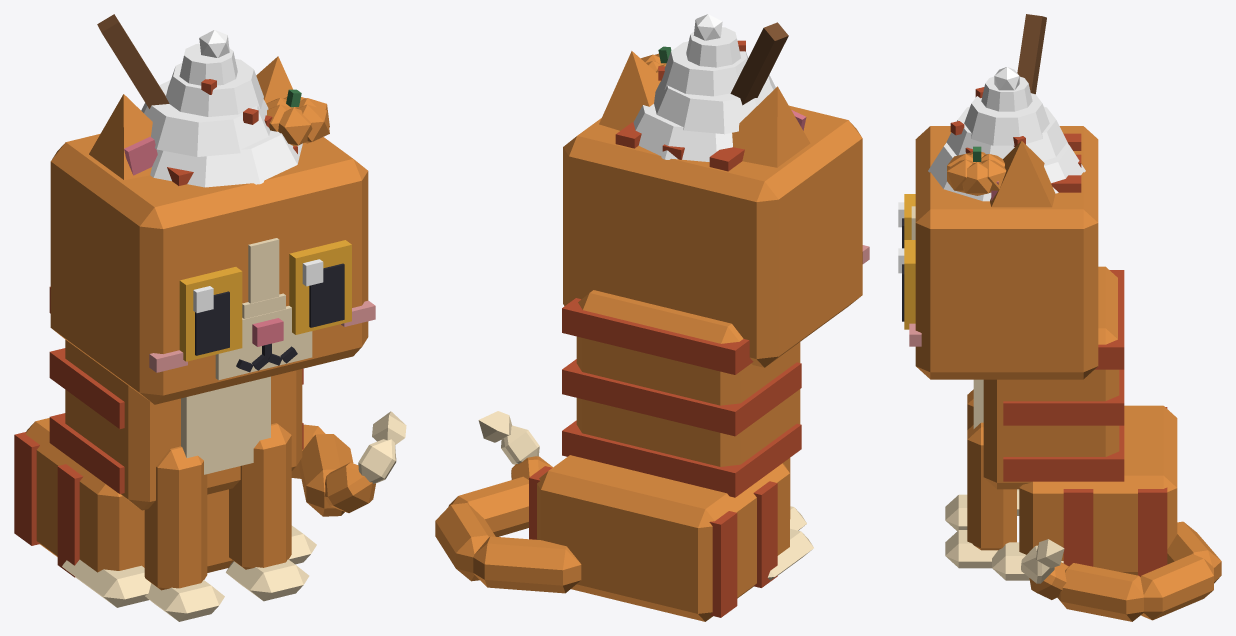
The model's file is CatCafe_Cat_PumpkinSpice_Sit.glb.
The picture shows the model from 3 angles, left to right: view 1: azimuth 30°, elevation 25°; view 2: azimuth 150°, elevation 25°; view 3: azimuth 270°, elevation 25°; orthographic projection. The views are drawn at different scales.
Parts seen in each view (by area): view 1: CatCafe_Cat_PumpkinSpice_Sit_Head, CatCafe_Cat_PumpkinSpice_Sit_Body, CatCafe_Cat_PumpkinSpice_Sit_Prop, CatCafe_Cat_PumpkinSpice_Sit_LegF2, CatCafe_Cat_PumpkinSpice_Sit_LegF1, CatCafe_Cat_PumpkinSpice_Sit_Tail, CatCafe_Cat_PumpkinSpice_Sit_Eye2, CatCafe_Cat_PumpkinSpice_Sit_Eye1, CatCafe_Cat_PumpkinSpice_Sit_EarR, CatCafe_Cat_PumpkinSpice_Sit_EarL; view 2: CatCafe_Cat_PumpkinSpice_Sit_Body, CatCafe_Cat_PumpkinSpice_Sit_Head, CatCafe_Cat_PumpkinSpice_Sit_Prop, CatCafe_Cat_PumpkinSpice_Sit_Tail, CatCafe_Cat_PumpkinSpice_Sit_EarR, CatCafe_Cat_PumpkinSpice_Sit_EarL; view 3: CatCafe_Cat_PumpkinSpice_Sit_Head, CatCafe_Cat_PumpkinSpice_Sit_Body, CatCafe_Cat_PumpkinSpice_Sit_Prop, CatCafe_Cat_PumpkinSpice_Sit_Tail, CatCafe_Cat_PumpkinSpice_Sit_LegF1, CatCafe_Cat_PumpkinSpice_Sit_EarL, CatCafe_Cat_PumpkinSpice_Sit_Eye1, CatCafe_Cat_PumpkinSpice_Sit_LegF2, CatCafe_Cat_PumpkinSpice_Sit_Eye2.
Boxes of the visible parts, x1=… form: CatCafe_Cat_PumpkinSpice_Sit_Head: x1=50, y1=133, x2=375, y2=404; CatCafe_Cat_PumpkinSpice_Sit_Body: x1=14, y1=286, x2=316, y2=607; CatCafe_Cat_PumpkinSpice_Sit_Prop: x1=97, y1=14, x2=329, y2=187; CatCafe_Cat_PumpkinSpice_Sit_LegF2: x1=144, y1=446, x2=224, y2=621; CatCafe_Cat_PumpkinSpice_Sit_LegF1: x1=226, y1=423, x2=309, y2=601; CatCafe_Cat_PumpkinSpice_Sit_Tail: x1=291, y1=411, x2=406, y2=516; CatCafe_Cat_PumpkinSpice_Sit_Eye2: x1=179, y1=267, x2=242, y2=361; CatCafe_Cat_PumpkinSpice_Sit_Eye1: x1=289, y1=240, x2=351, y2=334; CatCafe_Cat_PumpkinSpice_Sit_EarR: x1=89, y1=94, x2=157, y2=179; CatCafe_Cat_PumpkinSpice_Sit_EarL: x1=256, y1=56, x2=292, y2=103; CatCafe_Cat_PumpkinSpice_Sit_Body: x1=529, y1=290, x2=813, y2=621; CatCafe_Cat_PumpkinSpice_Sit_Head: x1=563, y1=105, x2=869, y2=367; CatCafe_Cat_PumpkinSpice_Sit_Prop: x1=633, y1=14, x2=788, y2=161; CatCafe_Cat_PumpkinSpice_Sit_Tail: x1=435, y1=411, x2=581, y2=593; CatCafe_Cat_PumpkinSpice_Sit_EarR: x1=732, y1=86, x2=810, y2=167; CatCafe_Cat_PumpkinSpice_Sit_EarL: x1=599, y1=51, x2=660, y2=130; CatCafe_Cat_PumpkinSpice_Sit_Head: x1=909, y1=126, x2=1098, y2=379; CatCafe_Cat_PumpkinSpice_Sit_Body: x1=973, y1=266, x2=1177, y2=580; CatCafe_Cat_PumpkinSpice_Sit_Prop: x1=928, y1=14, x2=1085, y2=201; CatCafe_Cat_PumpkinSpice_Sit_Tail: x1=1021, y1=521, x2=1221, y2=621; CatCafe_Cat_PumpkinSpice_Sit_LegF1: x1=945, y1=422, x2=1016, y2=568; CatCafe_Cat_PumpkinSpice_Sit_EarL: x1=990, y1=140, x2=1055, y2=207; CatCafe_Cat_PumpkinSpice_Sit_Eye1: x1=898, y1=240, x2=915, y2=329; CatCafe_Cat_PumpkinSpice_Sit_LegF2: x1=945, y1=389, x2=973, y2=531; CatCafe_Cat_PumpkinSpice_Sit_Eye2: x1=898, y1=194, x2=915, y2=248.
Size of the model in its own units: 1.28 by 2.11 by 1.24.
Materials: 1 (1 with a texture image).
